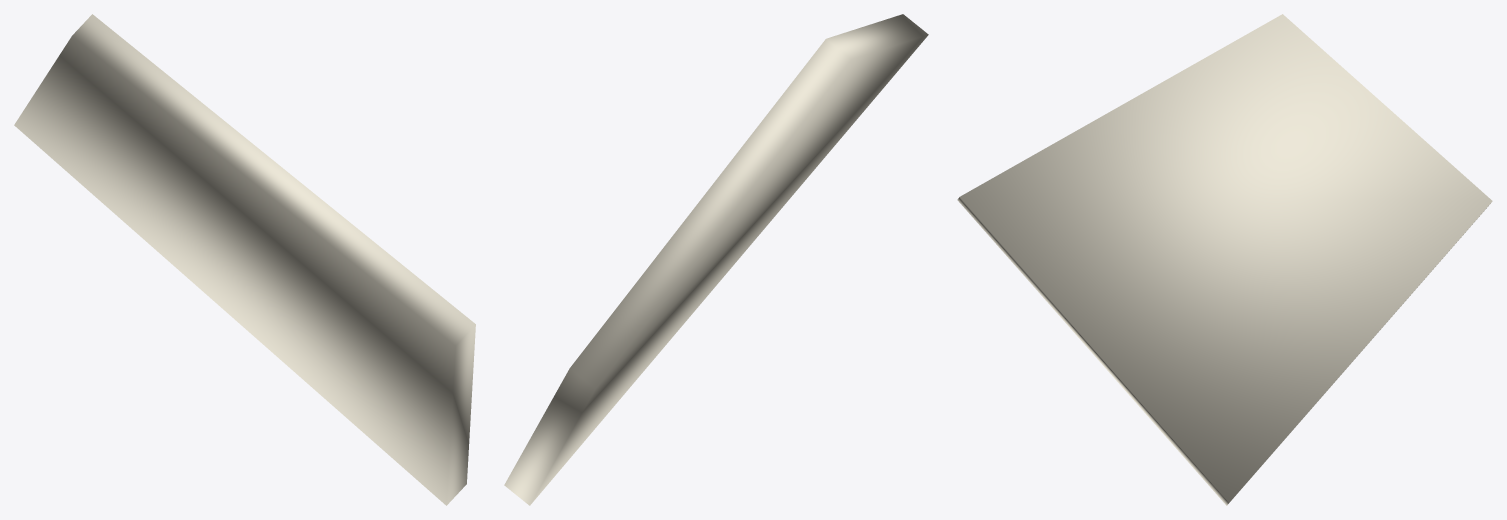
The picture shows the model from 3 angles, left to right: view 1: azimuth 30°, elevation 25°; view 2: azimuth 150°, elevation 25°; view 3: azimuth 270°, elevation 25°; orthographic projection. The views are drawn at different scales.
Visible parts, largest first — view 1: ZA_9ac93b79cc72365d; view 2: ZA_9ac93b79cc72365d; view 3: ZA_9ac93b79cc72365d.
Part boxes in pixels (bbox=[...]): ZA_9ac93b79cc72365d: bbox=[14, 14, 475, 505]; ZA_9ac93b79cc72365d: bbox=[504, 14, 928, 505]; ZA_9ac93b79cc72365d: bbox=[957, 14, 1492, 505].
Bounding box in the file's own units: 0.00674 × 0.00969 × 0.0123.
